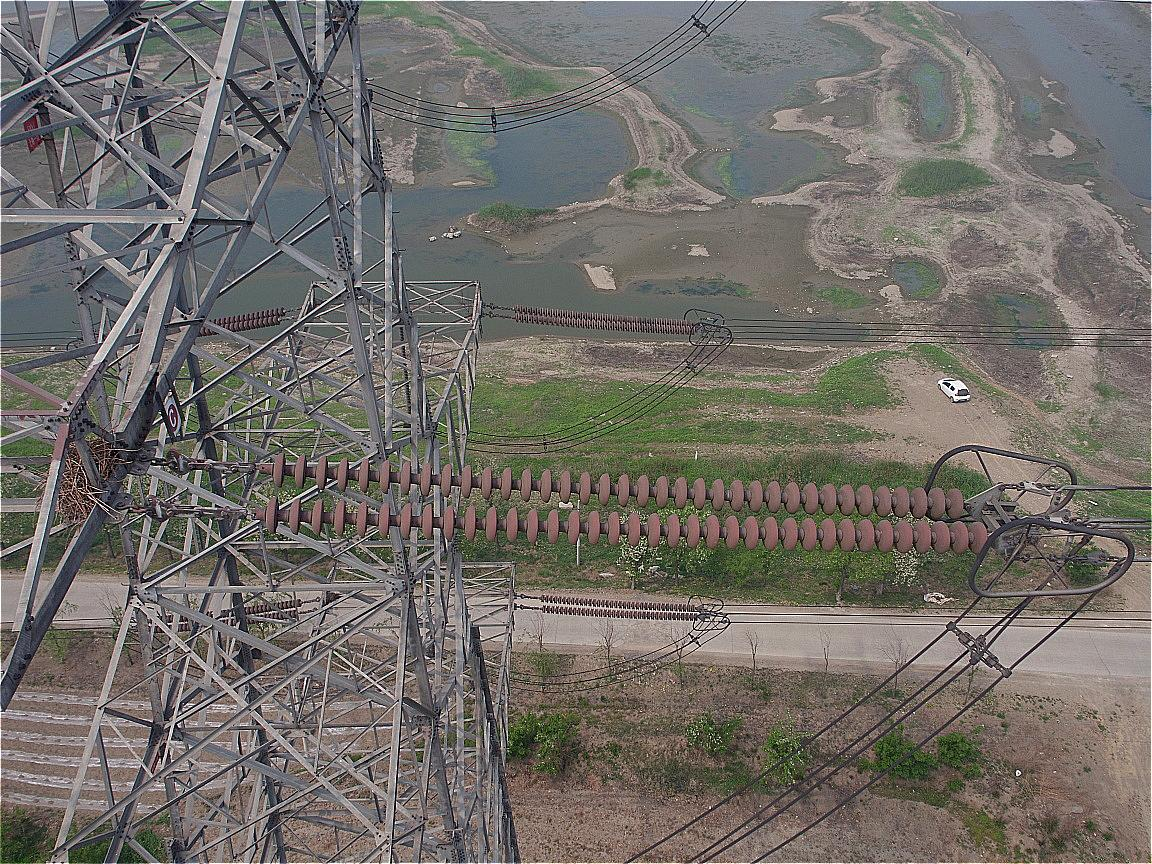insultor1: (264, 453, 991, 554)
insultor2: (514, 303, 696, 336), (540, 592, 699, 623)
